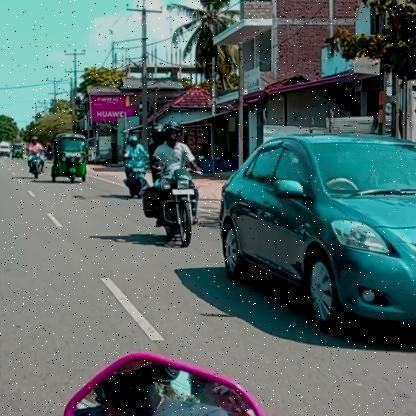motorcycle: (142, 167, 206, 250)
